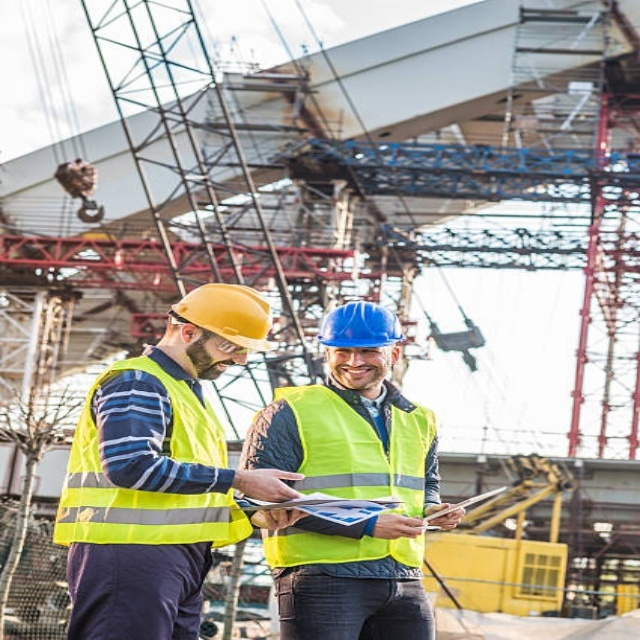Gafas: (194, 330, 248, 357)
Sin_gafas: (327, 346, 390, 357)
Sin_guantes: (235, 468, 310, 505), (247, 505, 308, 532), (373, 509, 422, 541), (418, 501, 467, 531)
Sin_mascara: (202, 361, 244, 381), (339, 366, 376, 387)
